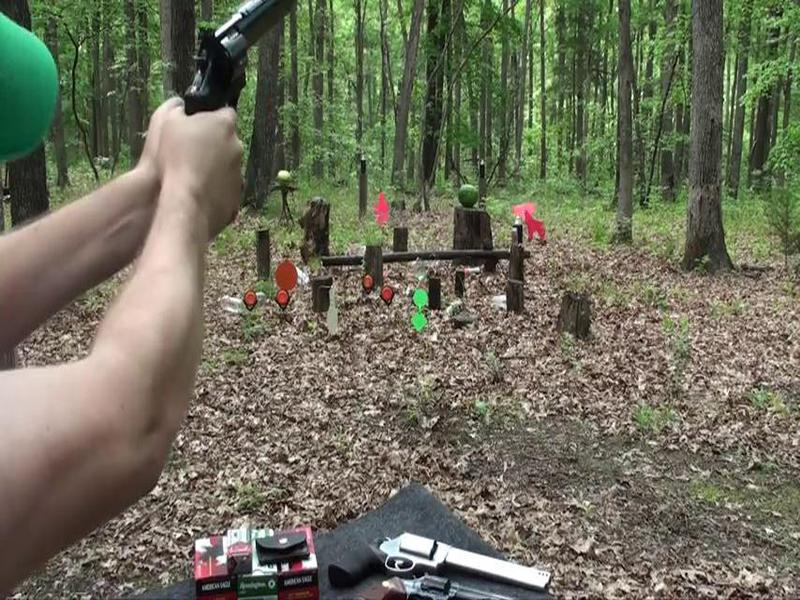Revolver: (161, 1, 312, 139)
